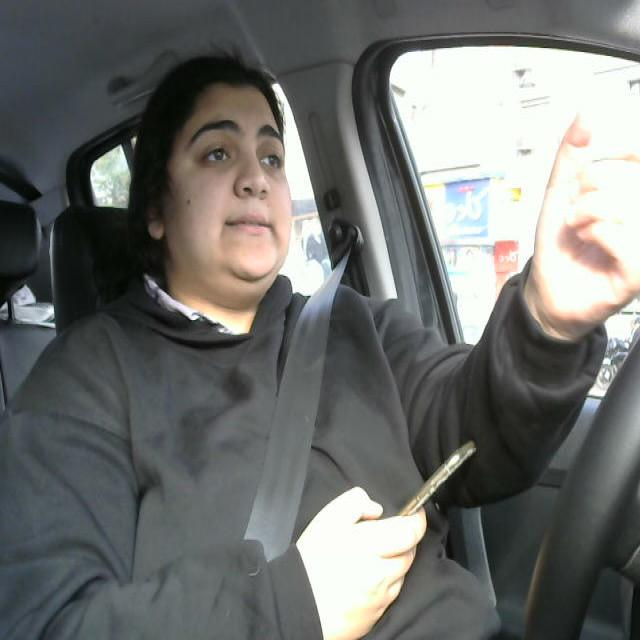mobile use: (383, 439, 480, 535)
